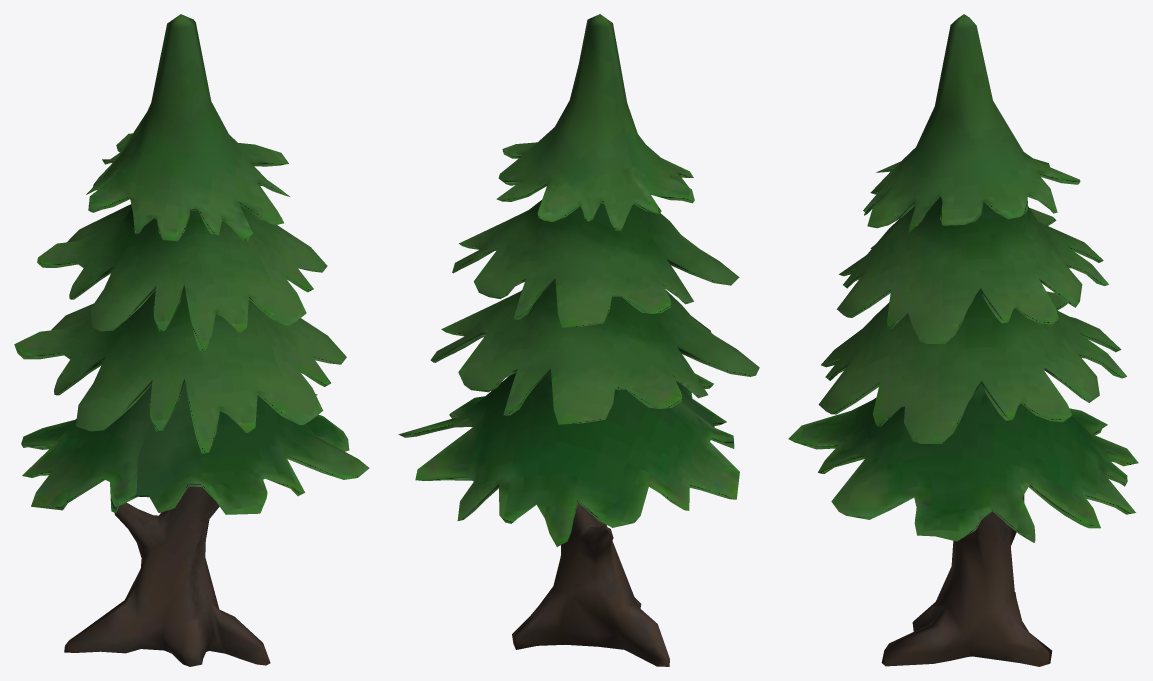
3 views of the same model, side by side, from view 1: azimuth 30°, elevation 25°; view 2: azimuth 150°, elevation 25°; view 3: azimuth 270°, elevation 25° (orthographic). The views are drawn at different scales.
Visible parts, largest first — view 1: polySurface5; view 2: polySurface5; view 3: polySurface5.
Boxes of the visible parts, bbox=[...] form: polySurface5: bbox=[14, 14, 369, 666]; polySurface5: bbox=[398, 14, 759, 666]; polySurface5: bbox=[788, 14, 1138, 666].
Size of the model in its own units: 2.39 by 4.56 by 2.3.
Materials: 1 (1 with a texture image).
